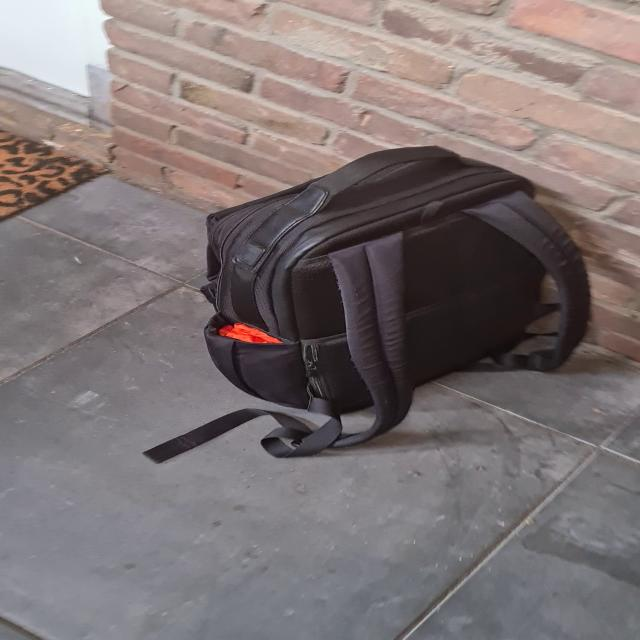backpack: (185, 136, 604, 460)
